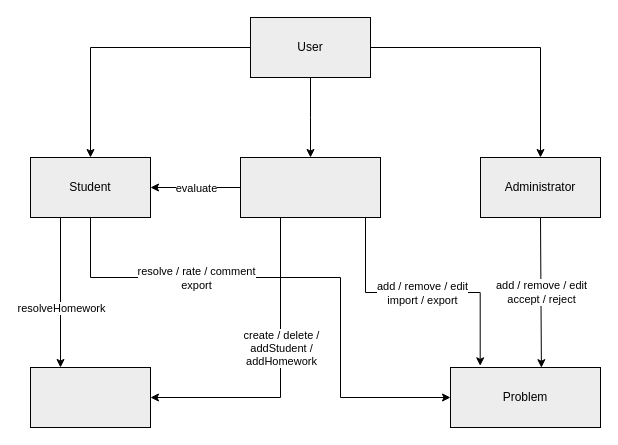
The diagram is 618 pixels wide and 445 high, and some of its shapes have lost their labels. The shapes that lost their labels are listed below. From the top down, each one's box as (x1, y1, x2, y2) in pixels, then its label:
(240, 156, 380, 218): Teacher
(30, 366, 150, 428): Class
